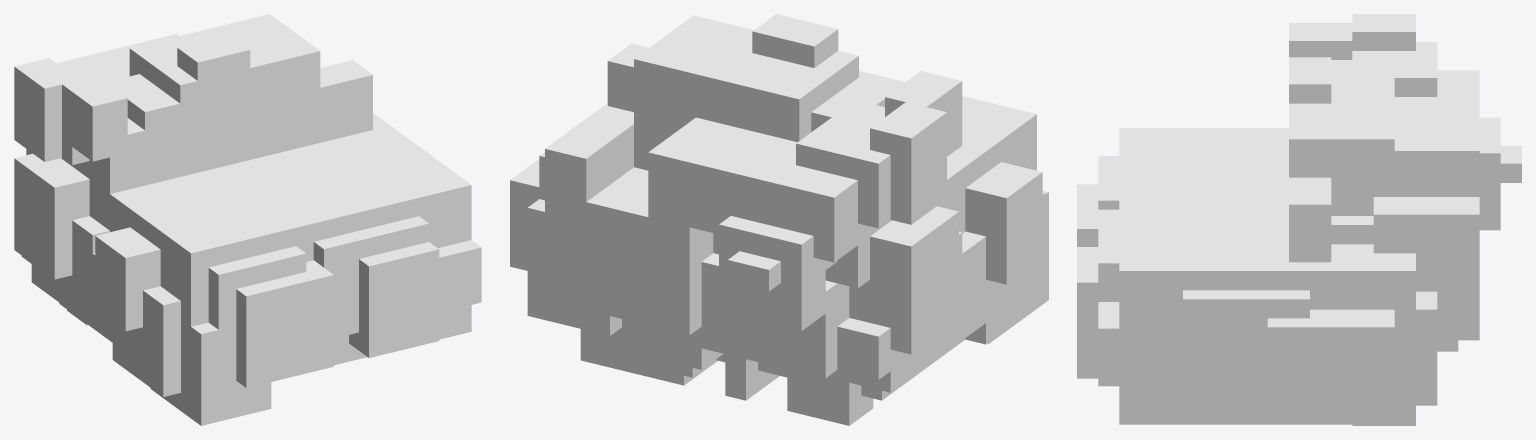
Rendered from cloud_02.2.obj.
3 renders of one model, left to right at view 1: azimuth 30°, elevation 25°; view 2: azimuth 150°, elevation 25°; view 3: azimuth 270°, elevation 25°, orthographic. The views are drawn at different scales.
Bounding box in the file's own units: 20 × 15 × 21.
1 material, 1 textured.
